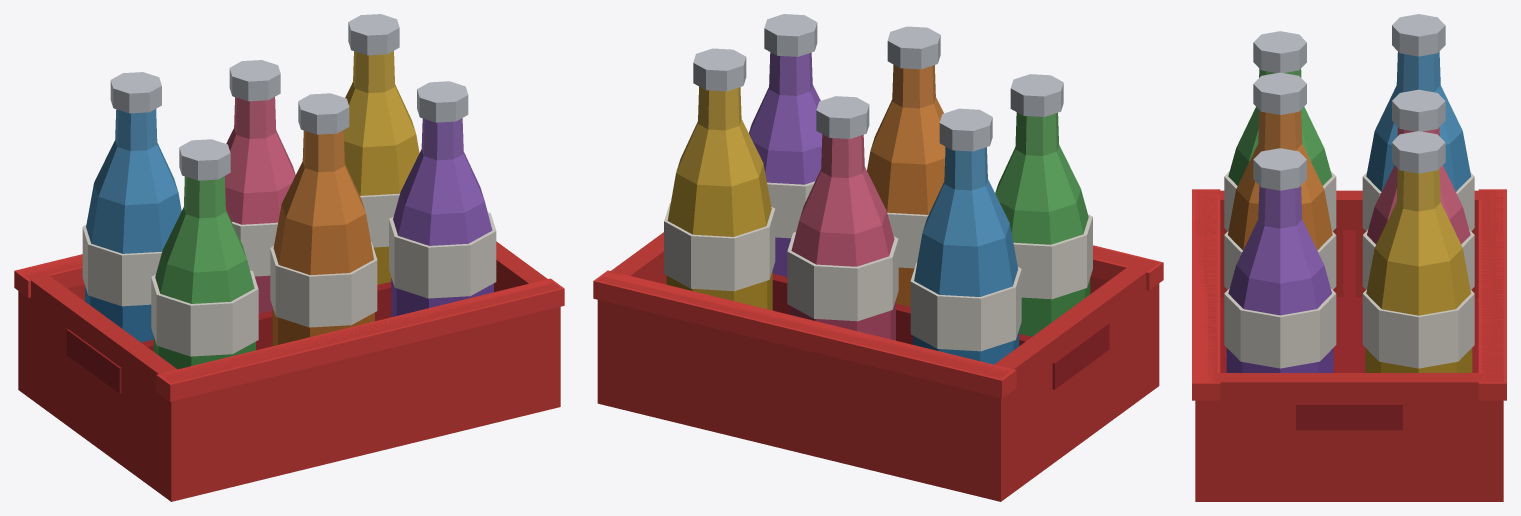
Rendered from habitat_prop_soda.fbx.
3 renders of one model, left to right at view 1: azimuth 30°, elevation 25°; view 2: azimuth 150°, elevation 25°; view 3: azimuth 270°, elevation 25°, orthographic. The views are drawn at different scales.
Parts seen in each view (by area): view 1: habitat_prop_soda; view 2: habitat_prop_soda; view 3: habitat_prop_soda.
Part boxes in pixels (box(x1,y1,x2,y2)): habitat_prop_soda: box(14, 14, 564, 501); habitat_prop_soda: box(593, 14, 1163, 501); habitat_prop_soda: box(1192, 14, 1506, 501).
Size of the model in its own units: 1.46 by 1.13 by 1.
